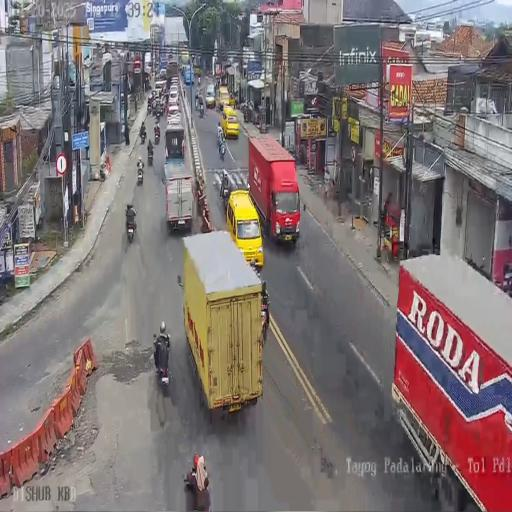car: (226, 189, 264, 268), (222, 107, 240, 140), (216, 86, 230, 111), (205, 84, 216, 108), (167, 98, 179, 116), (151, 86, 162, 104), (170, 76, 178, 95), (160, 67, 167, 80), (194, 65, 202, 76)
motorcycle: (155, 348, 170, 390), (126, 210, 136, 242), (219, 138, 226, 160), (147, 144, 154, 164), (137, 166, 144, 186), (154, 124, 160, 144), (140, 123, 146, 143), (243, 106, 250, 123), (155, 106, 161, 121), (147, 98, 152, 114), (199, 104, 204, 118), (198, 76, 201, 86)
truck: (181, 232, 266, 420), (183, 64, 194, 86)
